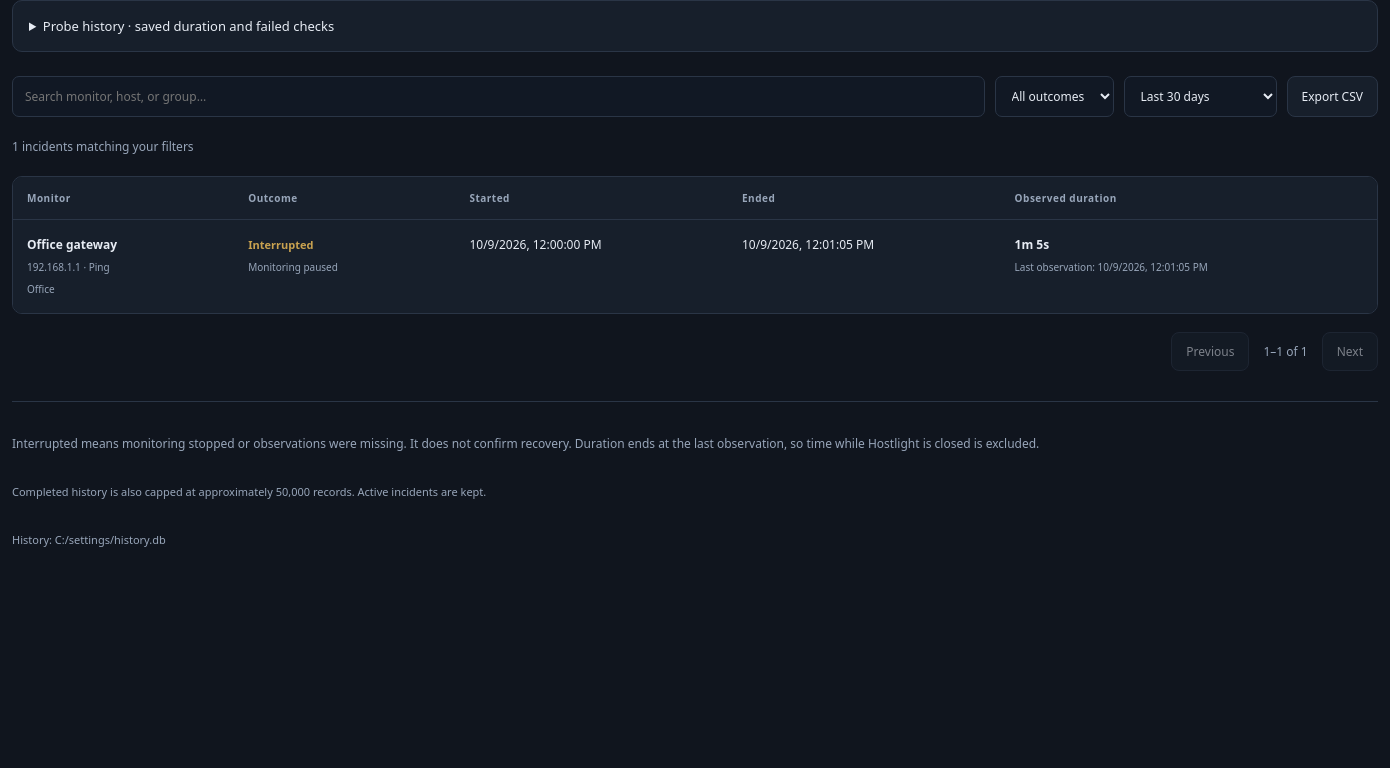
it: incident history › exports the active filters through the native save workflow
Click the button "Export CSV".
click(1332, 96)  # box [1286,76,1378,117]
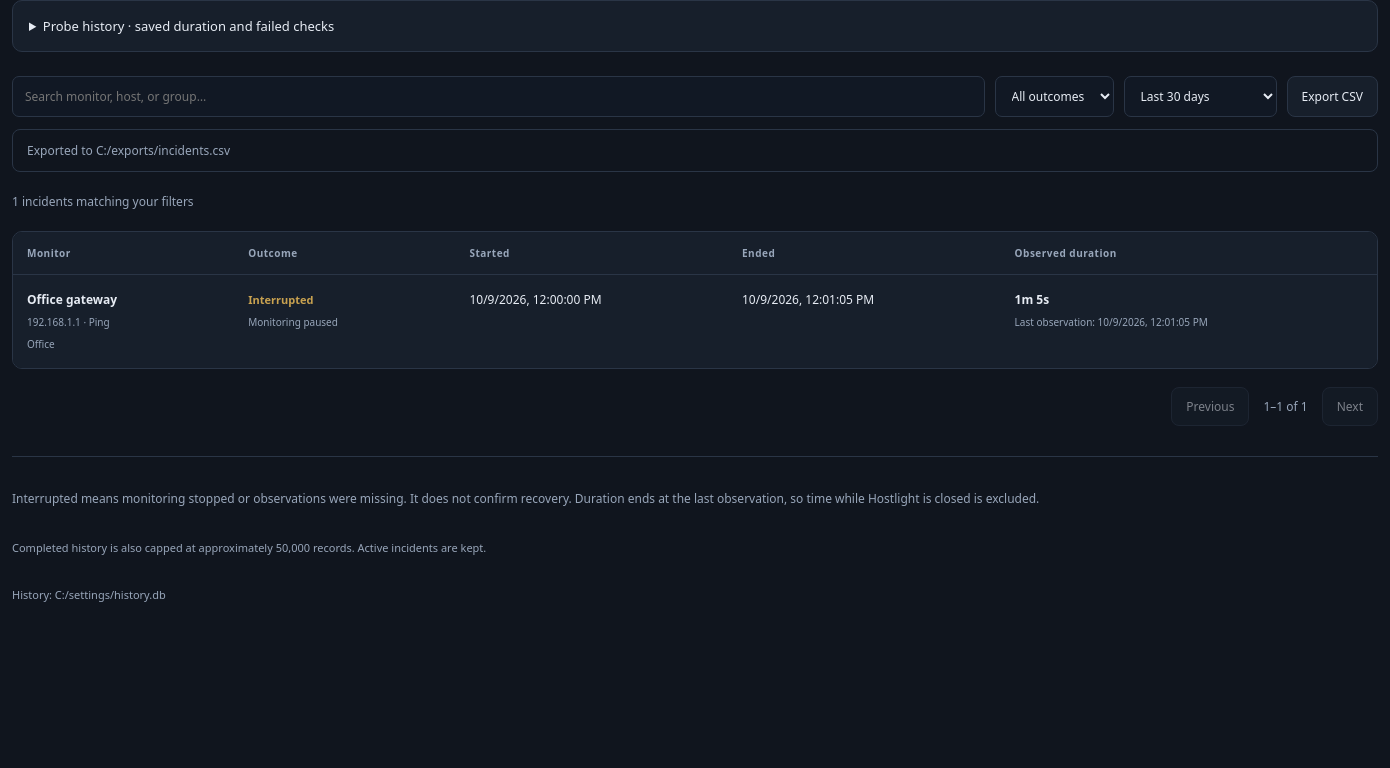
Expected: the text "Exported to C:/exports/incidents.csv" is shown, [12,129,1378,172]
